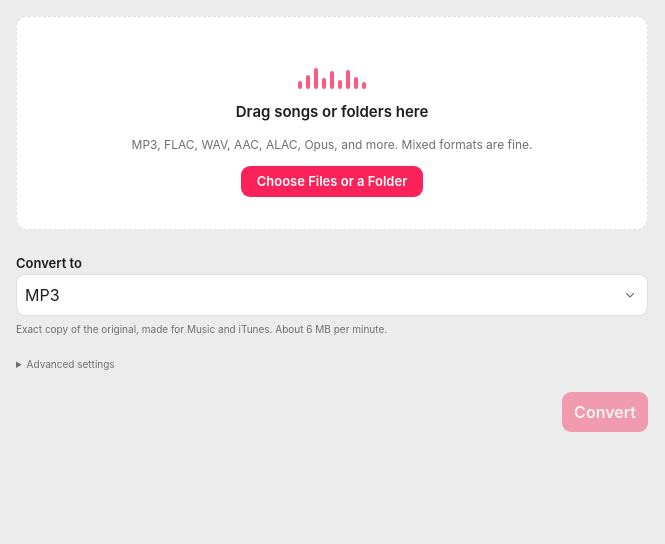
SetupView - advanced settings caption switches by codec kind (SetupView.swift:182-204) › hides the Compression row for ALAC, which has no tunable level (Codec.swift:156-161)
Click the heading "Advanced settings" at (71, 364), box left=27, top=358, right=115, bottom=370
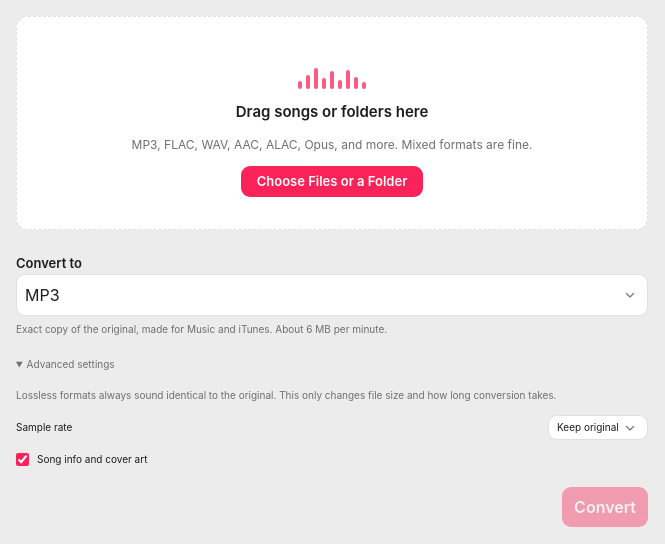
Expected: the text "Lossless formats always sound identical" is shown, left=16, top=389, right=556, bottom=401
